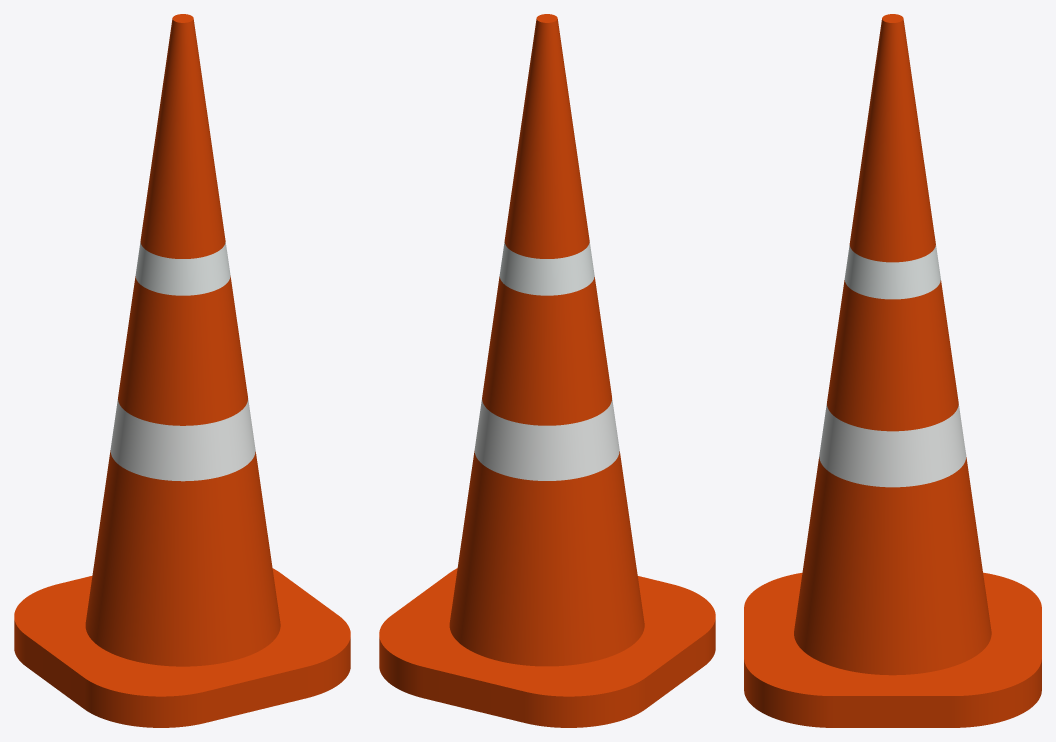
The model's file is cono.fbx.
The picture shows the model from 3 angles, left to right: view 1: azimuth 30°, elevation 25°; view 2: azimuth 150°, elevation 25°; view 3: azimuth 270°, elevation 25°; orthographic projection.
Visible parts, largest first — view 1: Plane; view 2: Plane; view 3: Plane.
Boxes of the visible parts, x1=… form: Plane: x1=14, y1=14, x2=350, y2=727; Plane: x1=379, y1=14, x2=715, y2=727; Plane: x1=744, y1=14, x2=1041, y2=727.
Size of the model in its own units: 56.5 by 135 by 56.5.
Materials: 2 (2 with a texture image).
